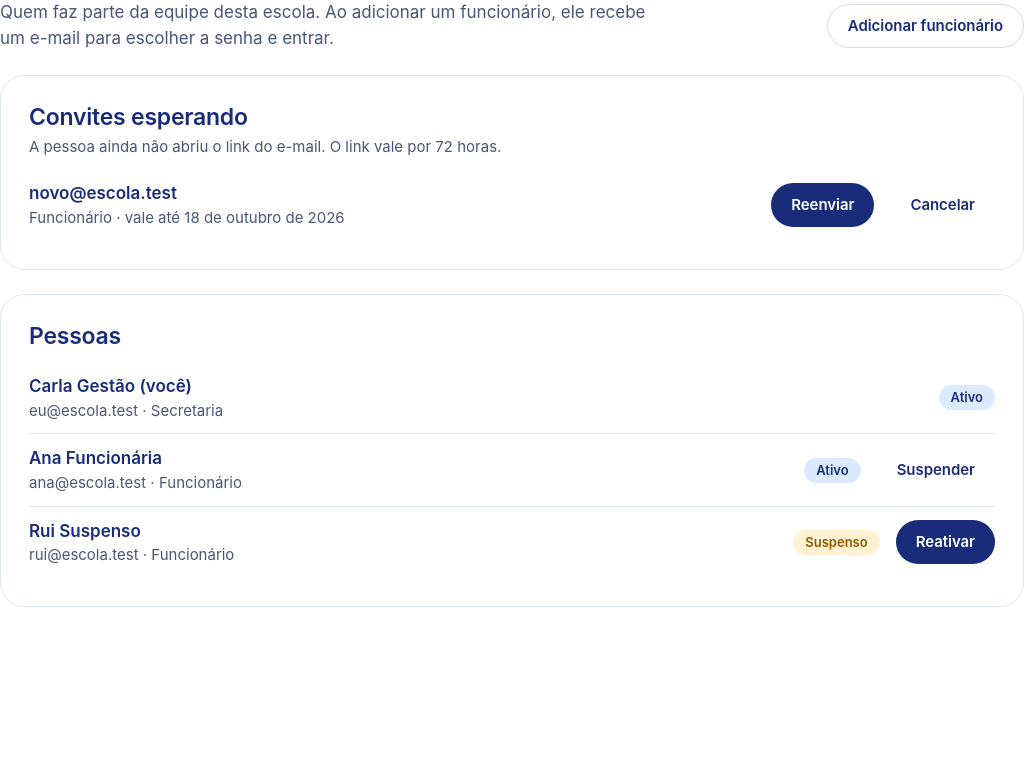
Scenario: Equipe › adiciona um funcionario: nome, e-mail e cargo padrao 'funcionario'
Click the button "Adicionar funcionário" at (925, 26), box [827,4,1023,48]
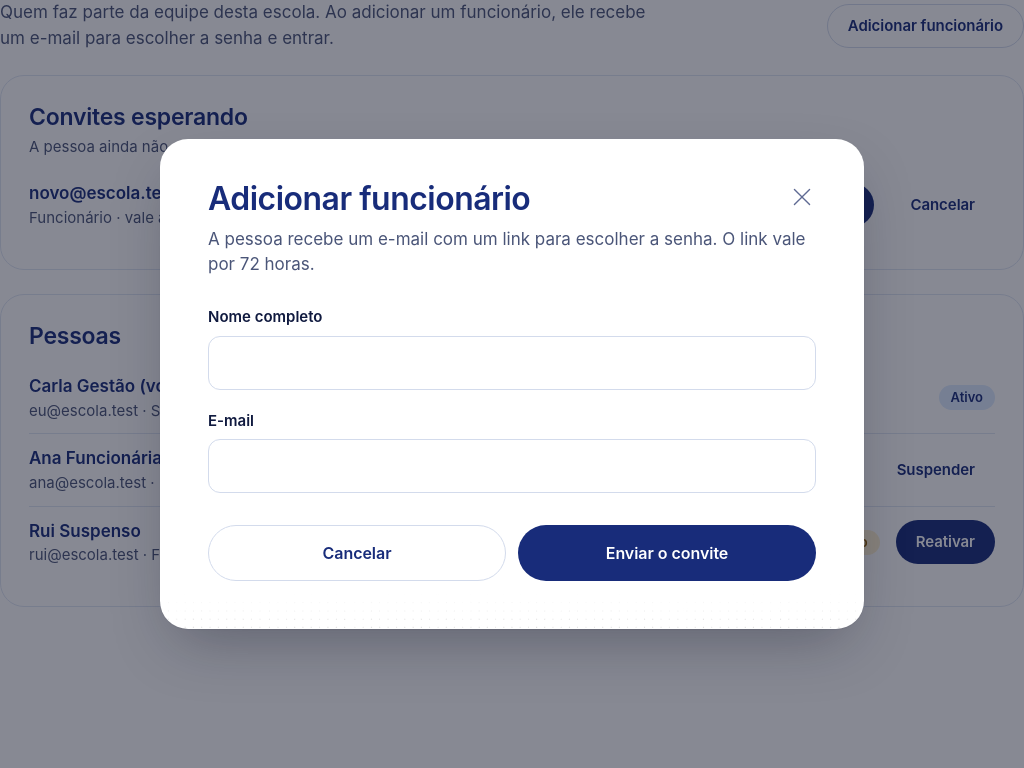
Click the button "Enviar o convite" at (667, 553), box [518,525,816,581]
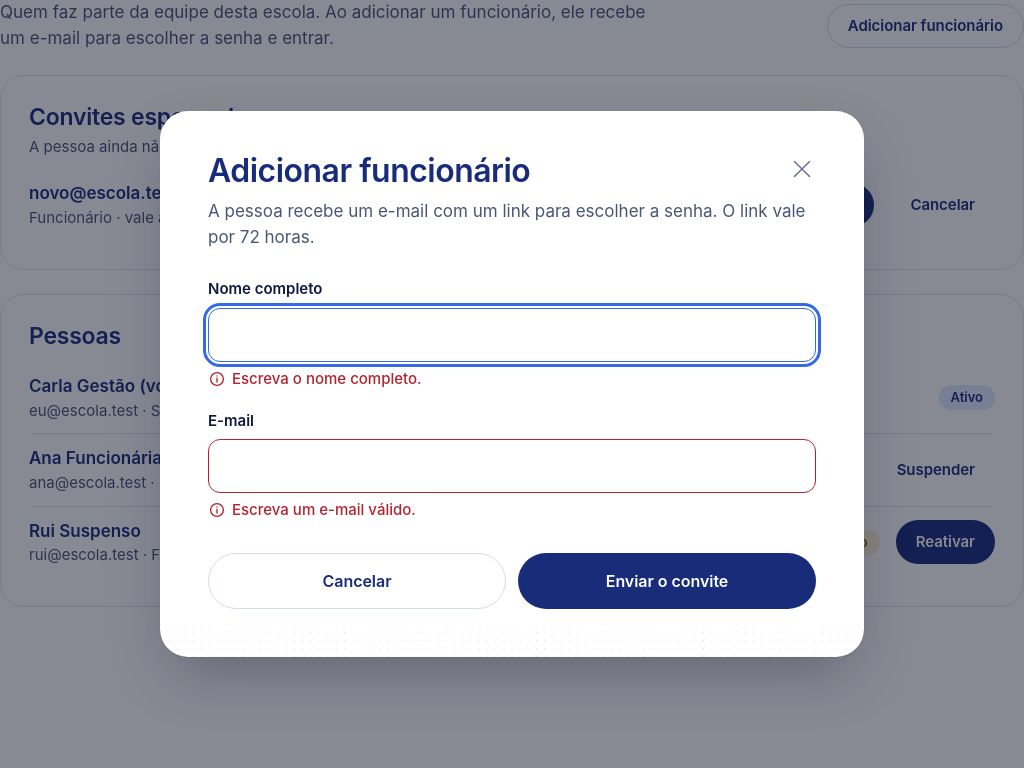
Expected: the text "Escreva o nome completo." is shown, [208,369,422,388]
Type "Maria Silva" into the field labelled "Nome completo" at (512, 335), box [208,308,816,362]
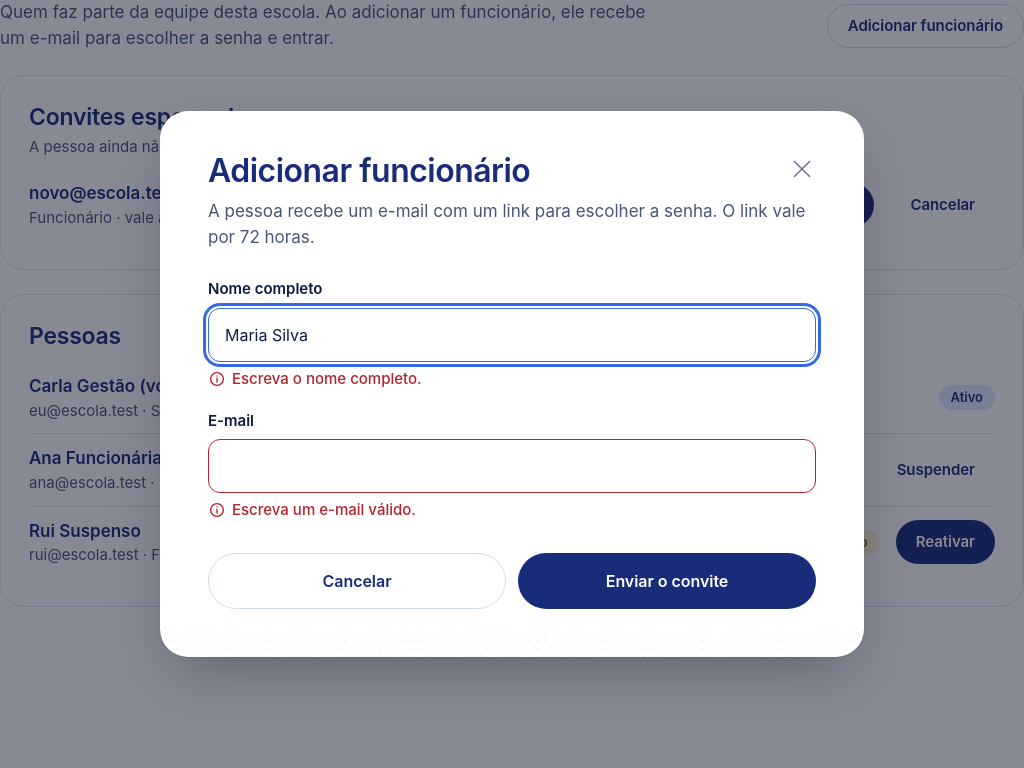
Type "maria@escola.test" into the field labelled "E-mail" at (512, 466), box [208,439,816,493]
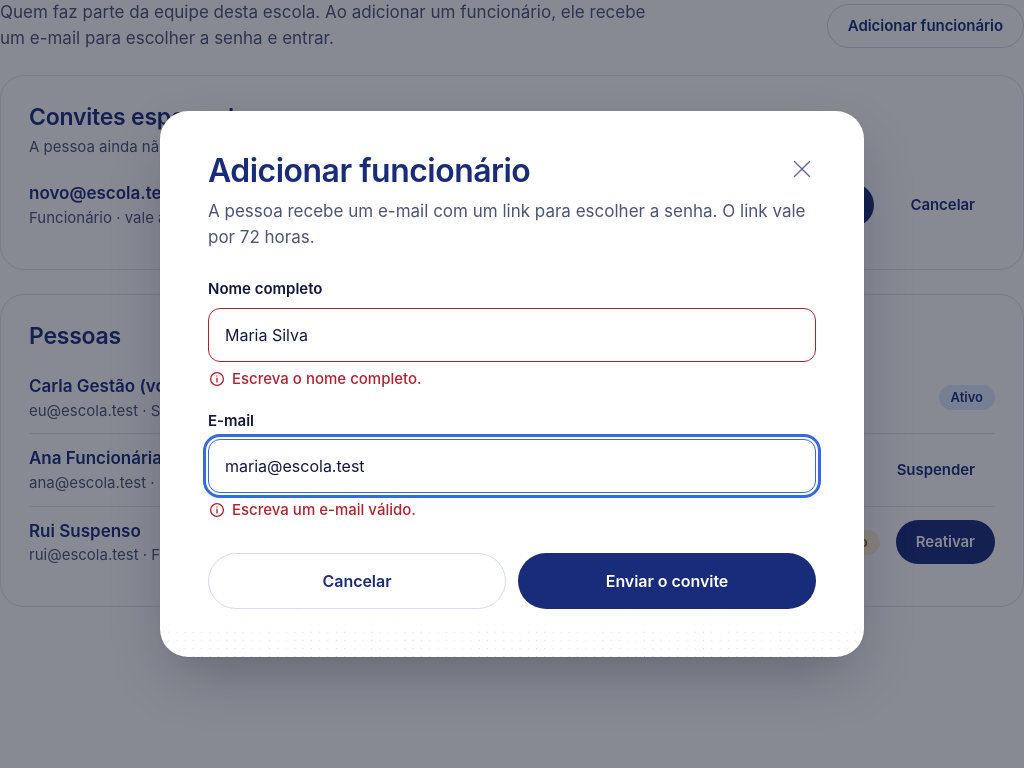
Click the button "Enviar o convite" at (667, 581), box [518,553,816,609]
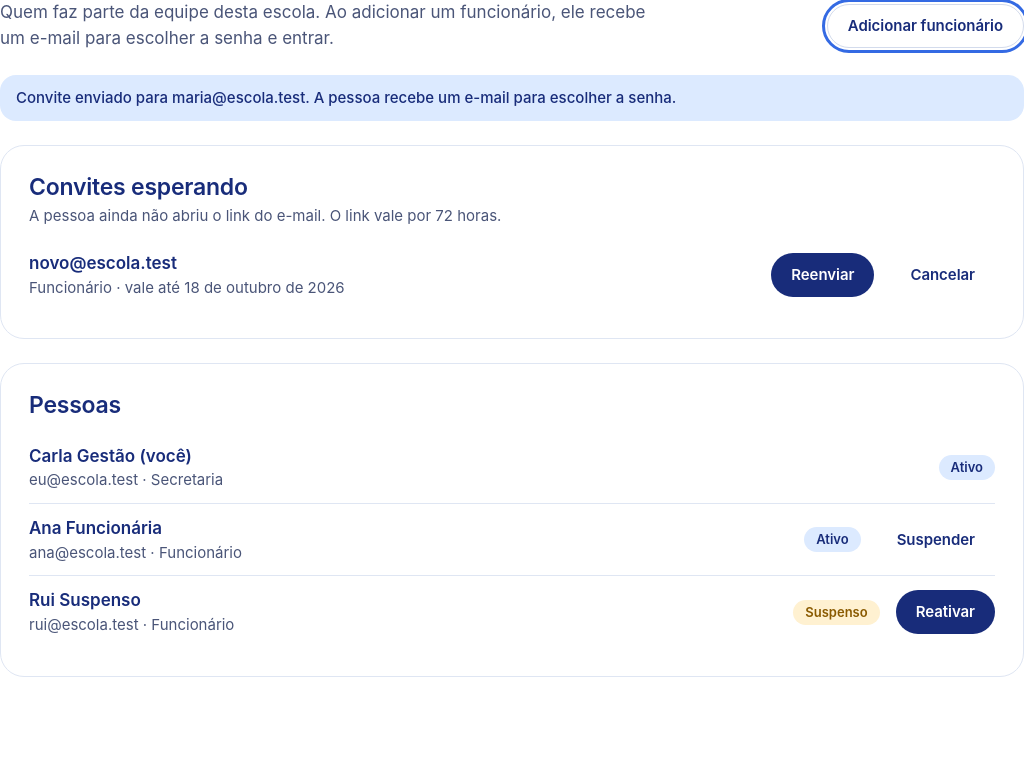
Expected: the message shows "Convite enviado para maria@escola.test", [16,88,676,107]
